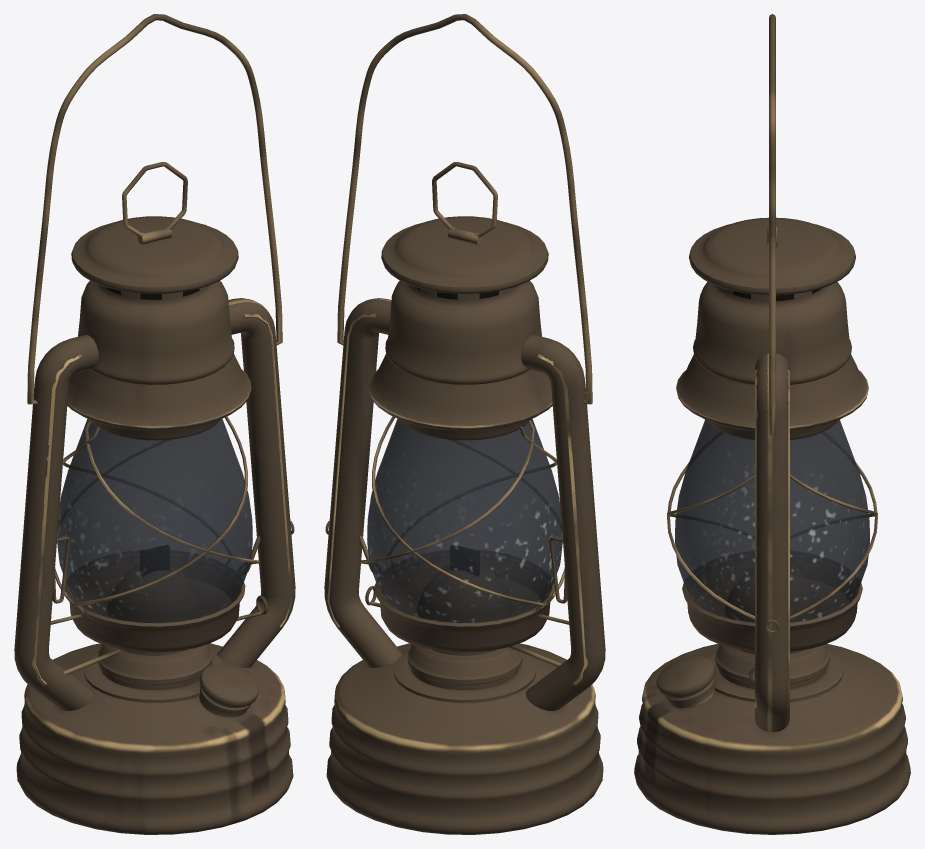
The model's file is lantern.glb.
3 renders of one model, left to right at view 1: azimuth 30°, elevation 25°; view 2: azimuth 150°, elevation 25°; view 3: azimuth 270°, elevation 25°, orthographic.
Parts seen in each view (by area): view 1: SM_HurricaneLantern_Font, SM_HurricaneLantern_Chimney, SM_HurricaneLantern_Globe, SM_HurricaneLantern_Burner, SM_HurricaneLantern_Tube_L, SM_HurricaneLantern_Tube_R, SM_HurricaneLantern_Bail, SM_HurricaneLantern_FillerCap, SM_HurricaneLantern_GlobeGuard, SM_HurricaneLantern_TopLoop, SM_HurricaneLantern_Lever_L; view 2: SM_HurricaneLantern_Font, SM_HurricaneLantern_Chimney, SM_HurricaneLantern_Globe, SM_HurricaneLantern_Burner, SM_HurricaneLantern_Tube_L, SM_HurricaneLantern_Tube_R, SM_HurricaneLantern_Bail, SM_HurricaneLantern_GlobeGuard, SM_HurricaneLantern_TopLoop, SM_HurricaneLantern_Lever_L; view 3: SM_HurricaneLantern_Font, SM_HurricaneLantern_Chimney, SM_HurricaneLantern_Globe, SM_HurricaneLantern_Burner, SM_HurricaneLantern_Tube_R, SM_HurricaneLantern_Bail, SM_HurricaneLantern_FillerCap, SM_HurricaneLantern_GlobeGuard.
Part boxes in pixels (x1=…): SM_HurricaneLantern_Font: x1=16, y1=643, x2=293, y2=834; SM_HurricaneLantern_Chimney: x1=67, y1=216, x2=251, y2=440; SM_HurricaneLantern_Globe: x1=57, y1=418, x2=252, y2=622; SM_HurricaneLantern_Burner: x1=65, y1=545, x2=245, y2=702; SM_HurricaneLantern_Tube_L: x1=14, y1=334, x2=98, y2=710; SM_HurricaneLantern_Tube_R: x1=216, y1=298, x2=295, y2=667; SM_HurricaneLantern_Bail: x1=27, y1=14, x2=282, y2=404; SM_HurricaneLantern_FillerCap: x1=199, y1=663, x2=258, y2=717; SM_HurricaneLantern_GlobeGuard: x1=55, y1=416, x2=259, y2=614; SM_HurricaneLantern_TopLoop: x1=122, y1=162, x2=187, y2=244; SM_HurricaneLantern_Lever_L: x1=50, y1=536, x2=120, y2=674; SM_HurricaneLantern_Font: x1=326, y1=643, x2=603, y2=834; SM_HurricaneLantern_Chimney: x1=368, y1=216, x2=552, y2=440; SM_HurricaneLantern_Globe: x1=367, y1=418, x2=562, y2=622; SM_HurricaneLantern_Burner: x1=374, y1=545, x2=554, y2=702; SM_HurricaneLantern_Tube_L: x1=521, y1=334, x2=605, y2=710; SM_HurricaneLantern_Tube_R: x1=324, y1=298, x2=403, y2=667; SM_HurricaneLantern_Bail: x1=337, y1=14, x2=592, y2=404; SM_HurricaneLantern_GlobeGuard: x1=360, y1=416, x2=564, y2=614; SM_HurricaneLantern_TopLoop: x1=432, y1=162, x2=497, y2=244; SM_HurricaneLantern_Lever_L: x1=510, y1=536, x2=569, y2=666; SM_HurricaneLantern_Font: x1=634, y1=643, x2=910, y2=834; SM_HurricaneLantern_Chimney: x1=676, y1=217, x2=868, y2=440; SM_HurricaneLantern_Globe: x1=675, y1=419, x2=869, y2=622; SM_HurricaneLantern_Burner: x1=682, y1=555, x2=862, y2=701; SM_HurricaneLantern_Tube_R: x1=755, y1=353, x2=789, y2=732; SM_HurricaneLantern_Bail: x1=769, y1=14, x2=775, y2=435; SM_HurricaneLantern_FillerCap: x1=656, y1=655, x2=715, y2=708; SM_HurricaneLantern_GlobeGuard: x1=667, y1=462, x2=877, y2=619.
Bounding box in the file's own units: 0.1322 × 0.3494 × 0.1148.
Materials: 3 (3 with a texture image).
